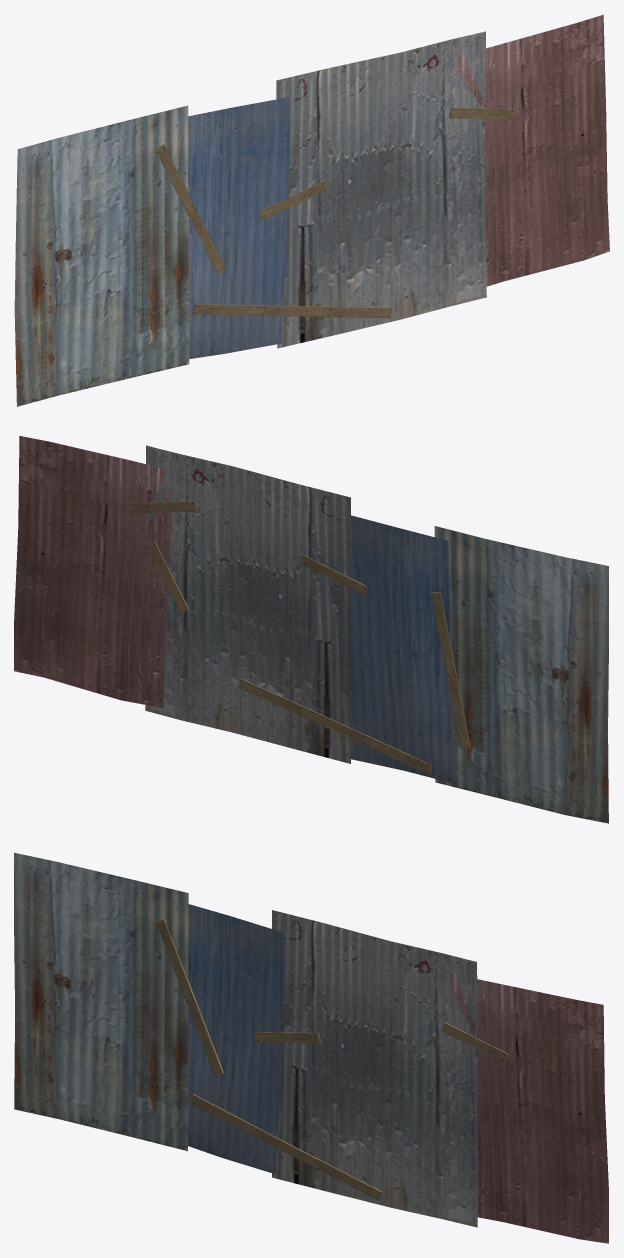
Rendered from Prop_FenceB.glb.
3 views of the same model, one above another, from view 1: azimuth 30°, elevation 25°; view 2: azimuth 150°, elevation 25°; view 3: azimuth 330°, elevation 25° (orthographic).
Parts seen in each view (by area): view 1: xiutz_fence_b; view 2: xiutz_fence_b; view 3: xiutz_fence_b.
Part boxes in pixels (<box>): xiutz_fence_b: <box>14,14,609,406</box>; xiutz_fence_b: <box>14,436,608,823</box>; xiutz_fence_b: <box>14,852,608,1243</box>.
Bounding box in the file's own units: 9.35 × 4.02 × 0.2195.
1 material, 1 textured.
